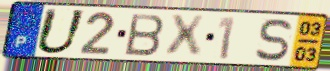1: (217, 16, 238, 61)
2: (78, 10, 119, 56)
B: (123, 12, 166, 58)
S: (253, 17, 295, 63)
U: (33, 7, 89, 56)
X: (164, 14, 207, 59)
